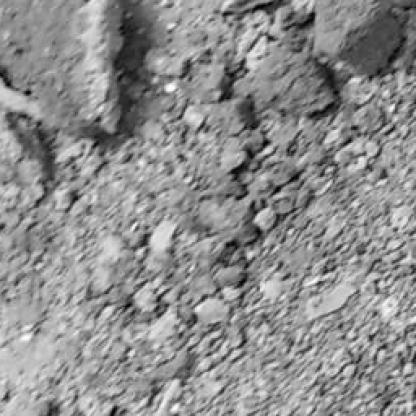cementitious_debris: (0, 1, 413, 414)
